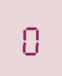zero: (19, 19, 40, 56)
